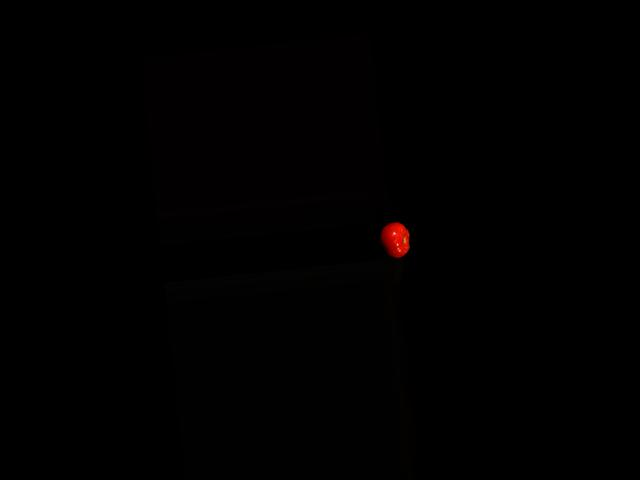tomato: (378, 219, 411, 259)
